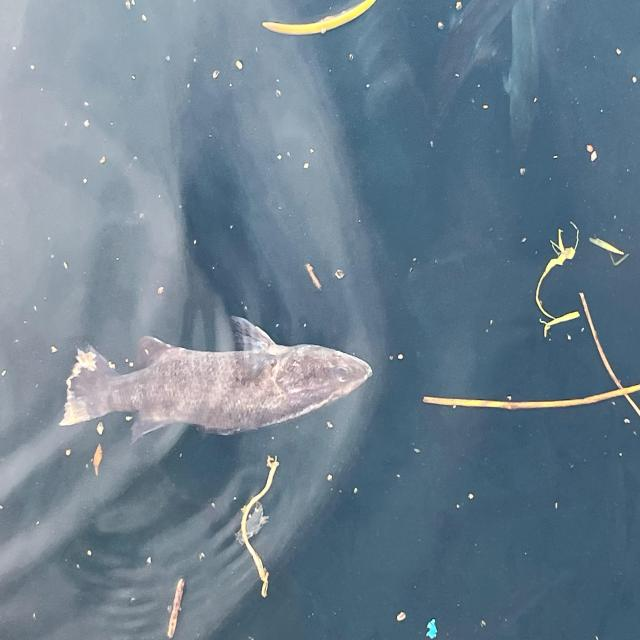ikan: (54, 304, 380, 454)
